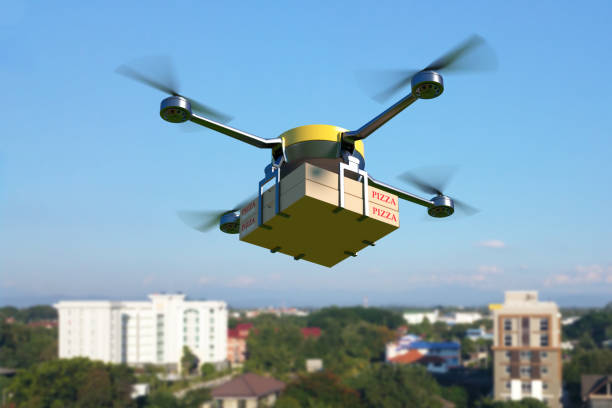Drone: (115, 24, 501, 232)
